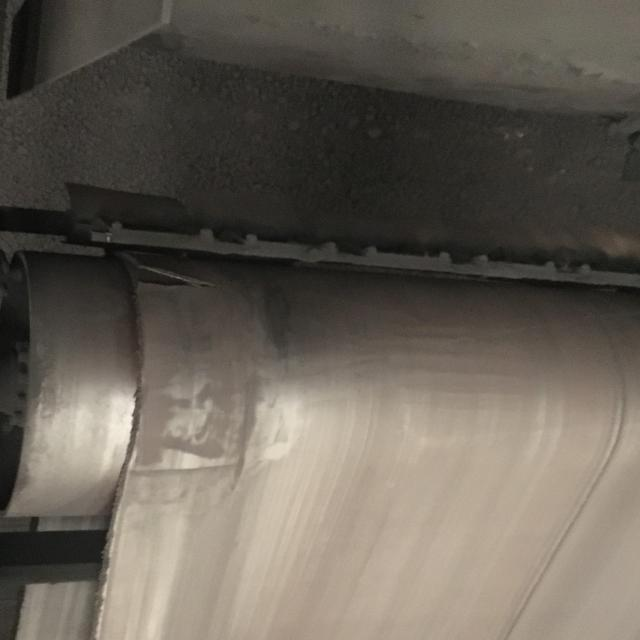Tear: (118, 256, 222, 300)
